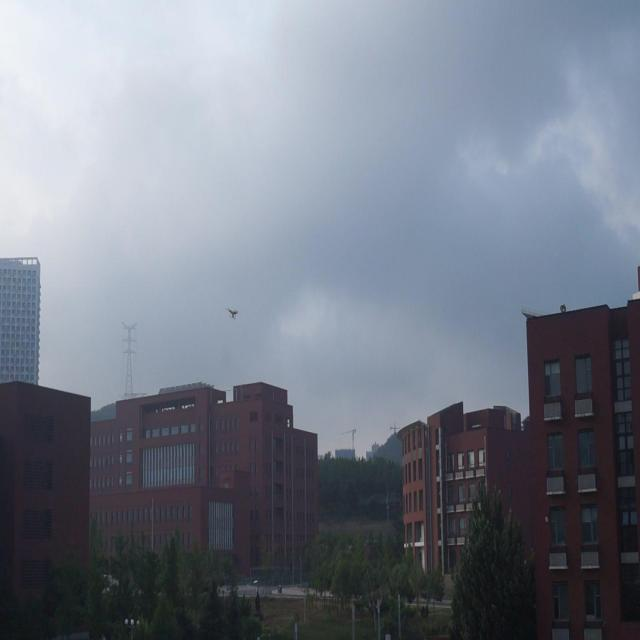UAV: (226, 308, 238, 320)
